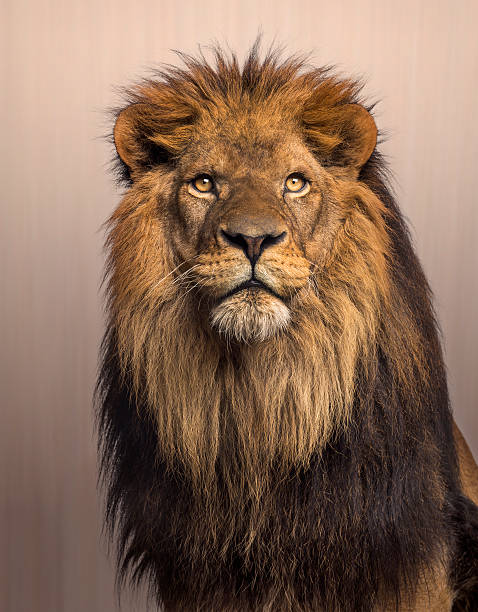lion: (71, 45, 478, 599)
